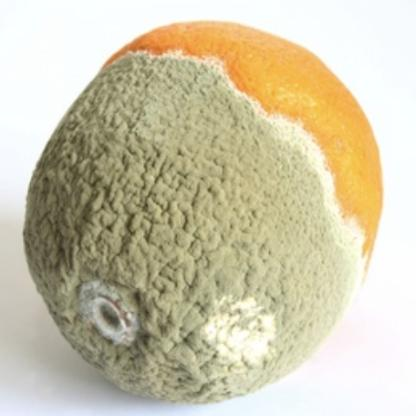rotten: (26, 21, 383, 402)
